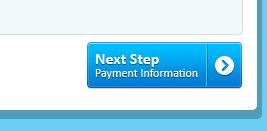button: (85, 41, 243, 90)
